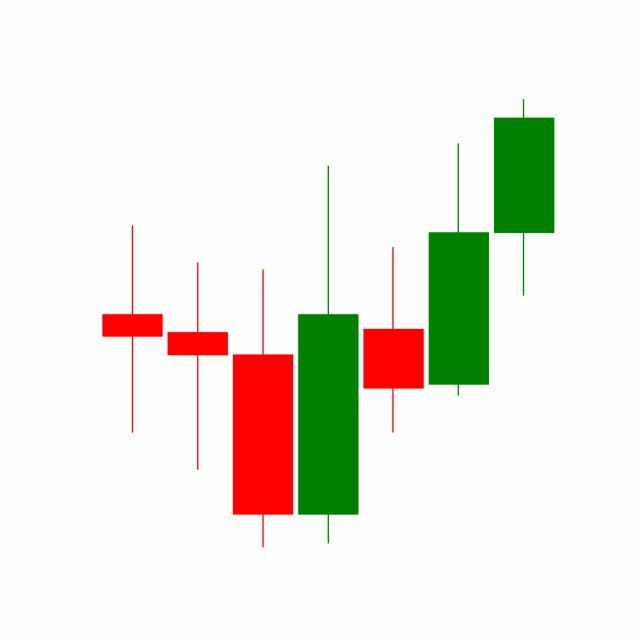Hikkake Pattern: (165, 139, 492, 548)
